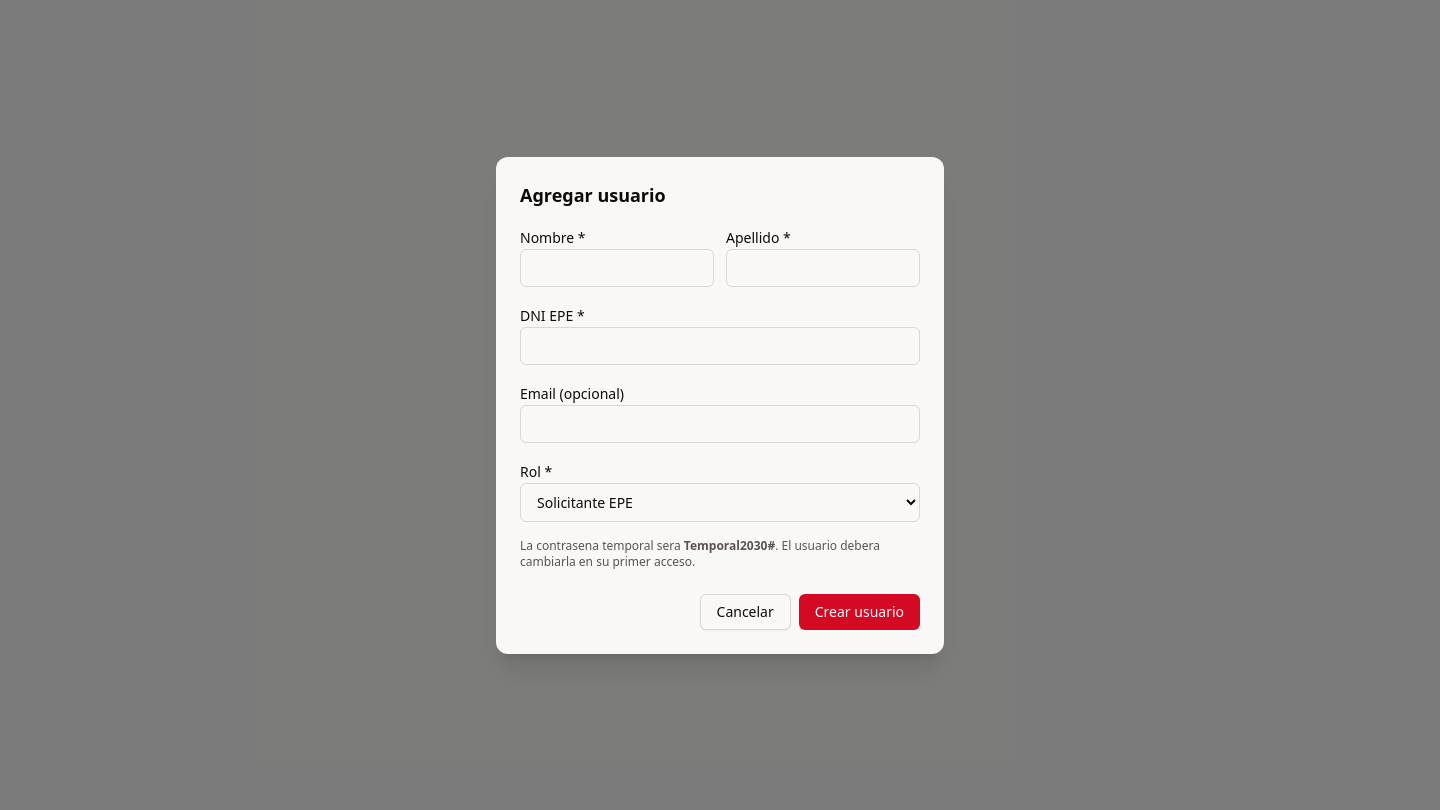
Test: CreateUserModal role options › reinicia estado de validación al cancelar
Click the button "Crear usuario": (859, 612) [799,594,920,630]
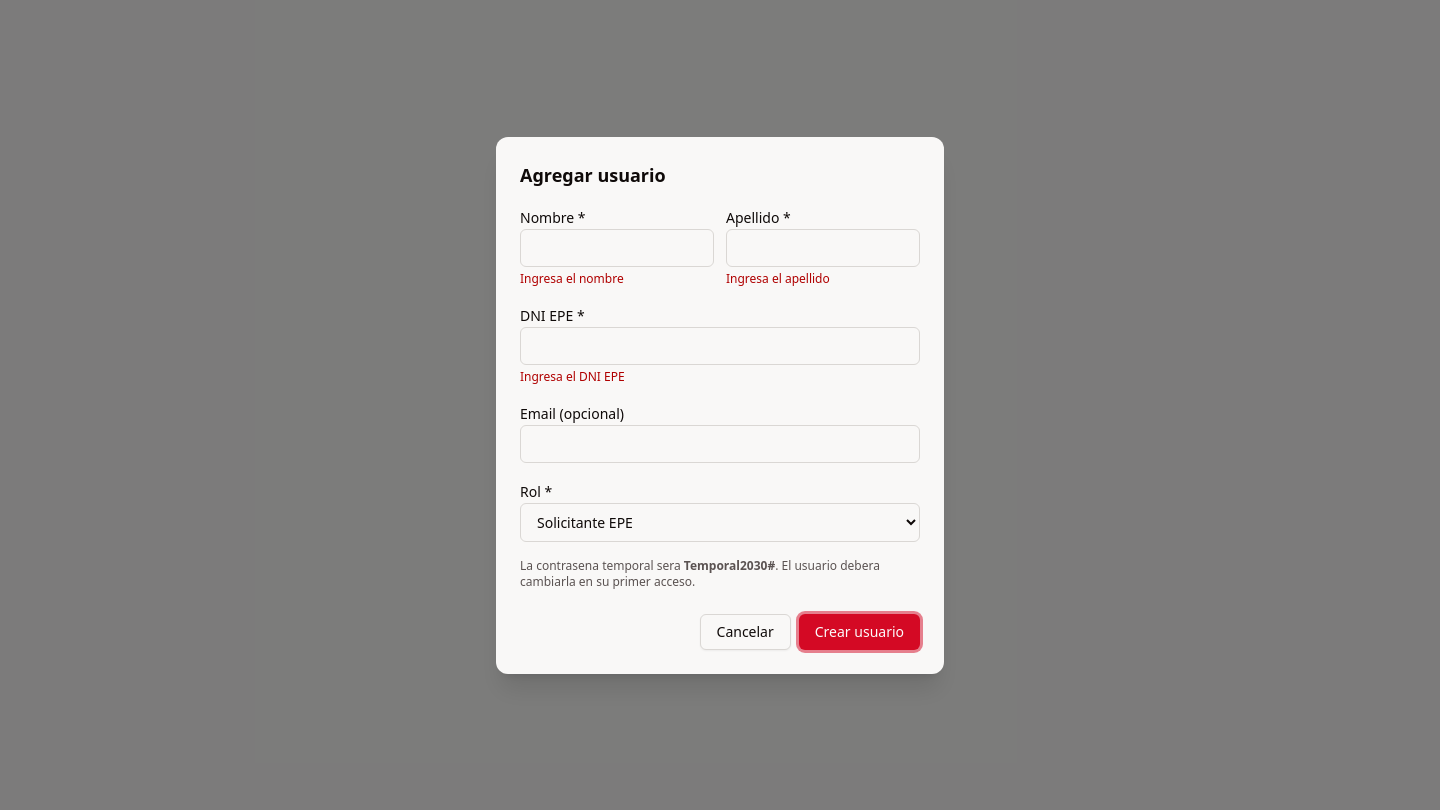
Result: the text "Ingresa el nombre" is shown at [520,270,624,286]
Click the button "Cancelar": (745, 632) [700,614,791,650]
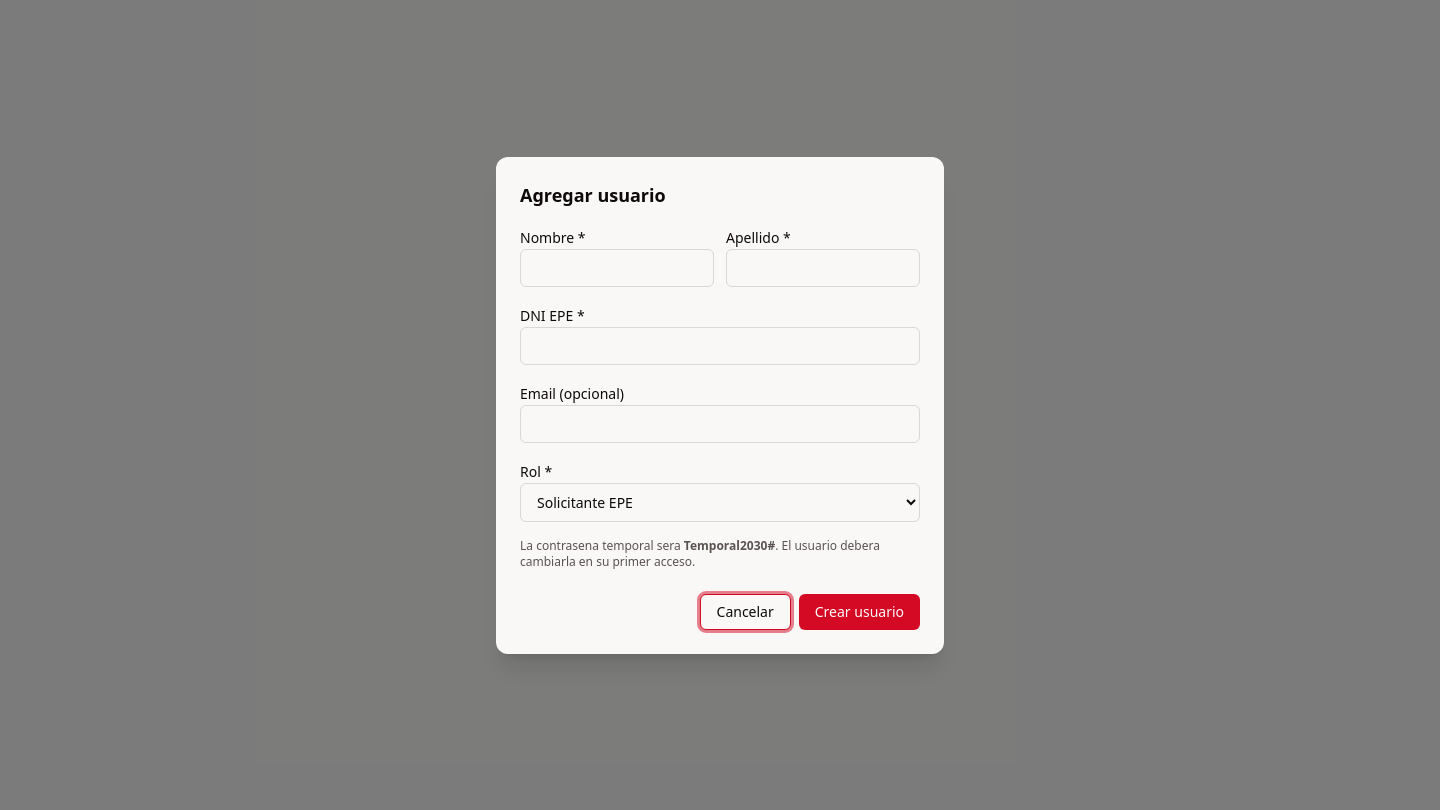
Expected: the field labelled "DNI EPE *" is empty, [520,326,920,364]
Result: the text "Ingresa el nombre" is gone
